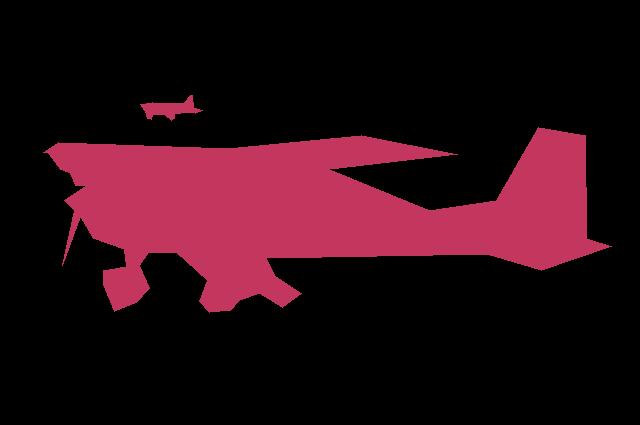Airplane: (43, 127, 612, 313), (140, 95, 202, 120)
